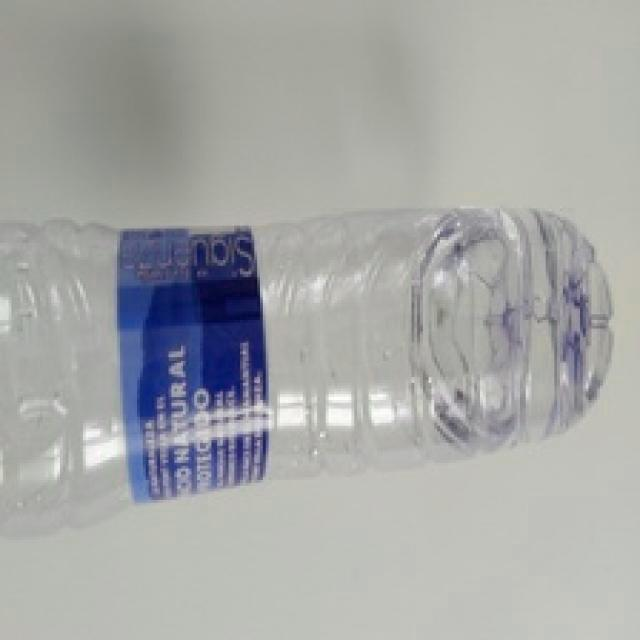bottle: (0, 206, 614, 538)
